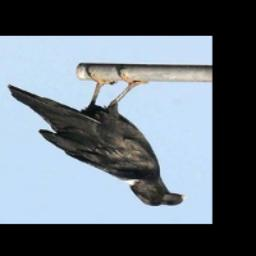Crow: (7, 66, 186, 209)
